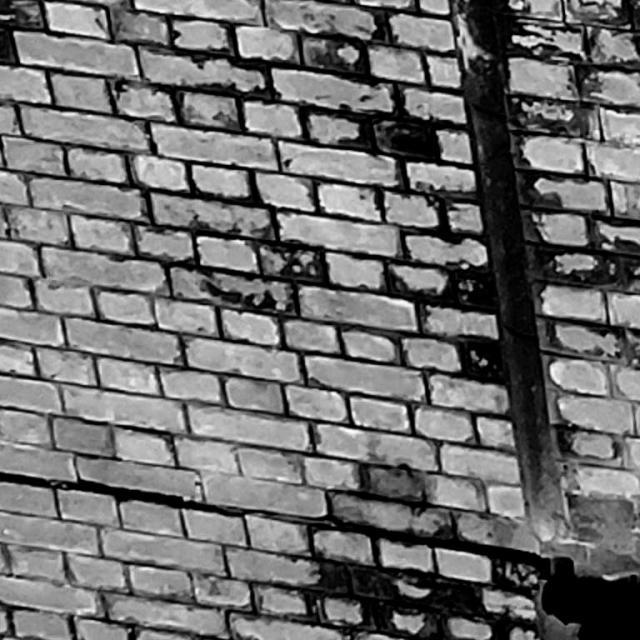crack: (1, 471, 640, 640)
